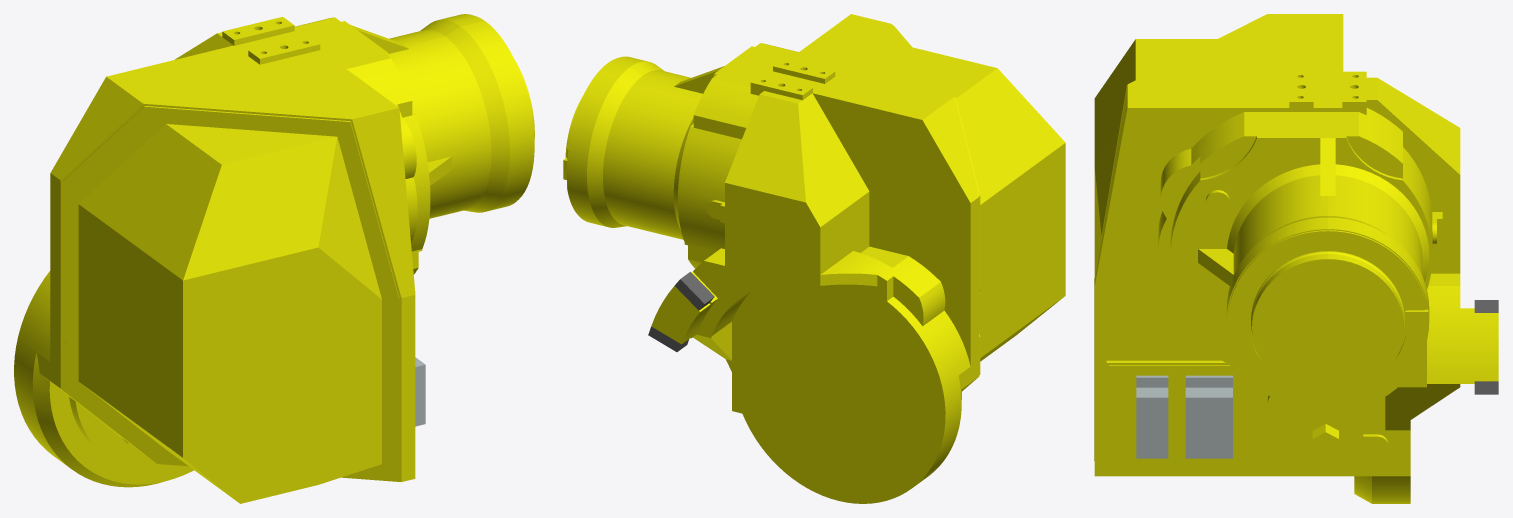
The picture shows the model from 3 angles, left to right: view 1: azimuth 30°, elevation 25°; view 2: azimuth 150°, elevation 25°; view 3: azimuth 270°, elevation 25°; orthographic projection. The views are drawn at different scales.
Parts seen in each view (by area): view 1: Mesh_0; view 2: Mesh_0; view 3: Mesh_0.
Boxes of the visible parts, x1,y1,x2,y2 form: Mesh_0: [14, 14, 534, 503]; Mesh_0: [563, 14, 1065, 503]; Mesh_0: [1094, 14, 1498, 503].
Size of the model in its own units: 0.477 by 0.3672 by 0.451.
